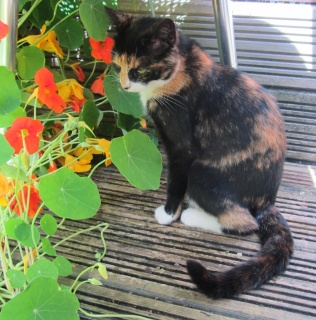Cat: (102, 5, 296, 301)
